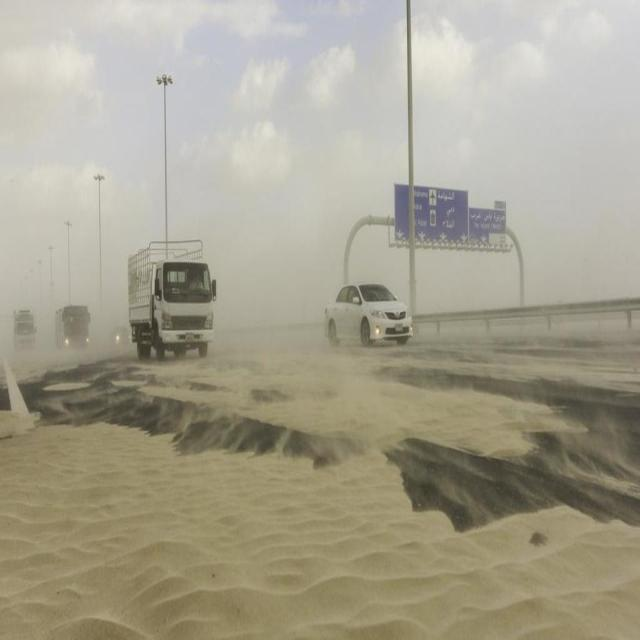Bus: (54, 305, 94, 356)
Car: (323, 282, 415, 351), (110, 326, 132, 350)
Truck: (126, 239, 218, 362), (12, 308, 38, 354)
